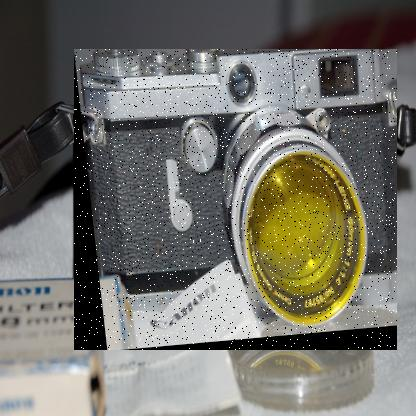Camera: (75, 50, 399, 352)
